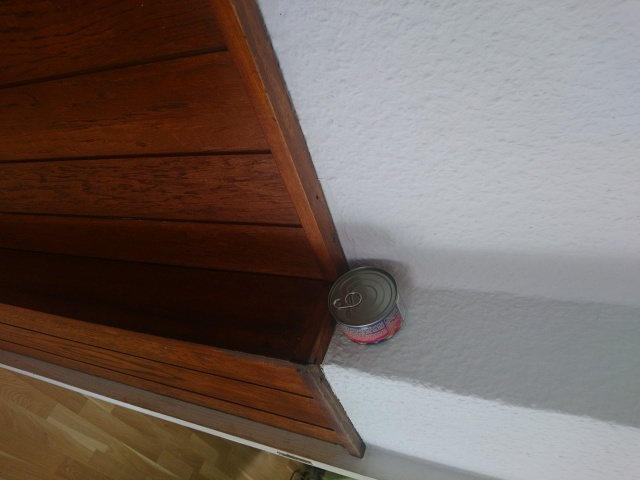Giana Tuna Salad Mexico 185g: (324, 262, 408, 348)
